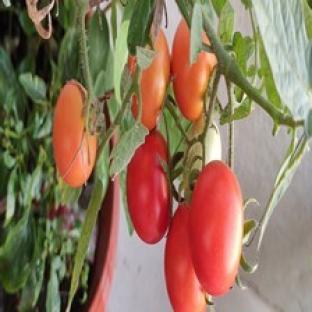Tomato: (190, 161, 243, 295), (127, 130, 171, 243), (53, 81, 97, 188), (172, 20, 217, 121), (165, 205, 206, 311), (140, 30, 169, 130), (190, 123, 221, 171)
